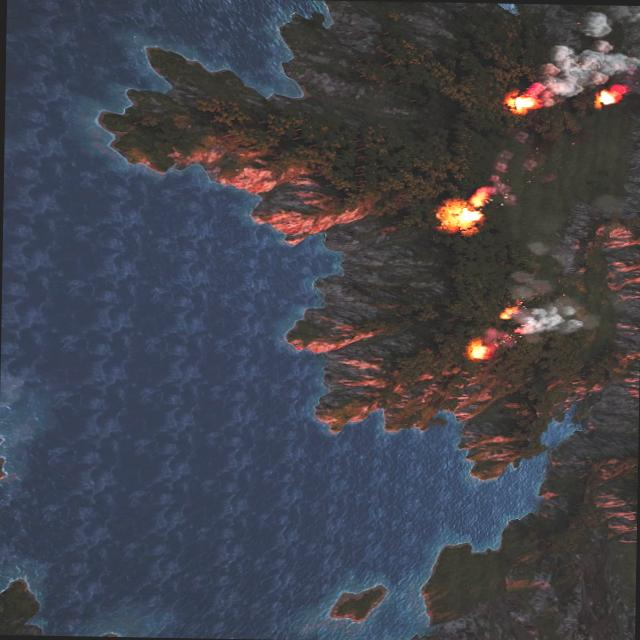fire: (439, 186, 492, 233), (508, 90, 542, 116), (594, 86, 624, 109), (466, 344, 486, 359)
smoke: (540, 3, 640, 97), (514, 300, 596, 336)
